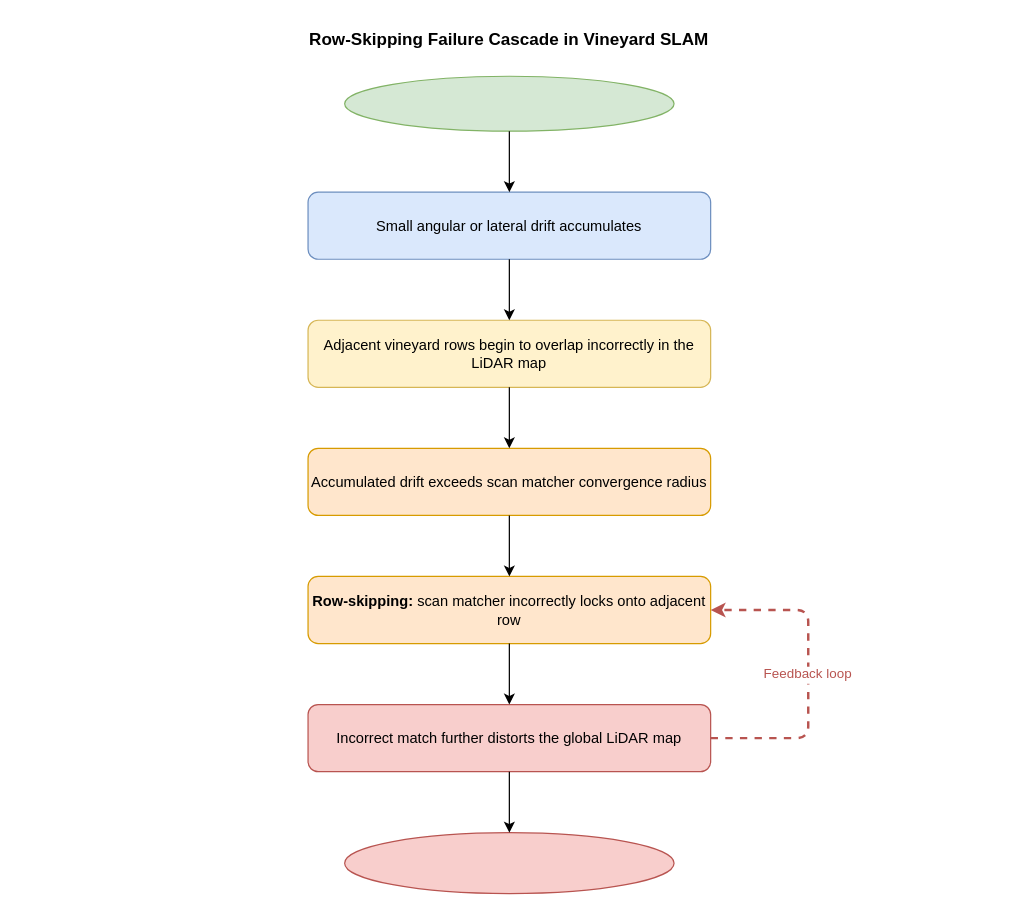
Image size: 1017x915. Some labels were removed from this diagram. The centre of each missing label's shape, as x and y in pixels:
"Irrecoverable failure — unbounded planar drift" belongs at point (508, 862).
"Normal scan-matching odometry" belongs at point (508, 103).
